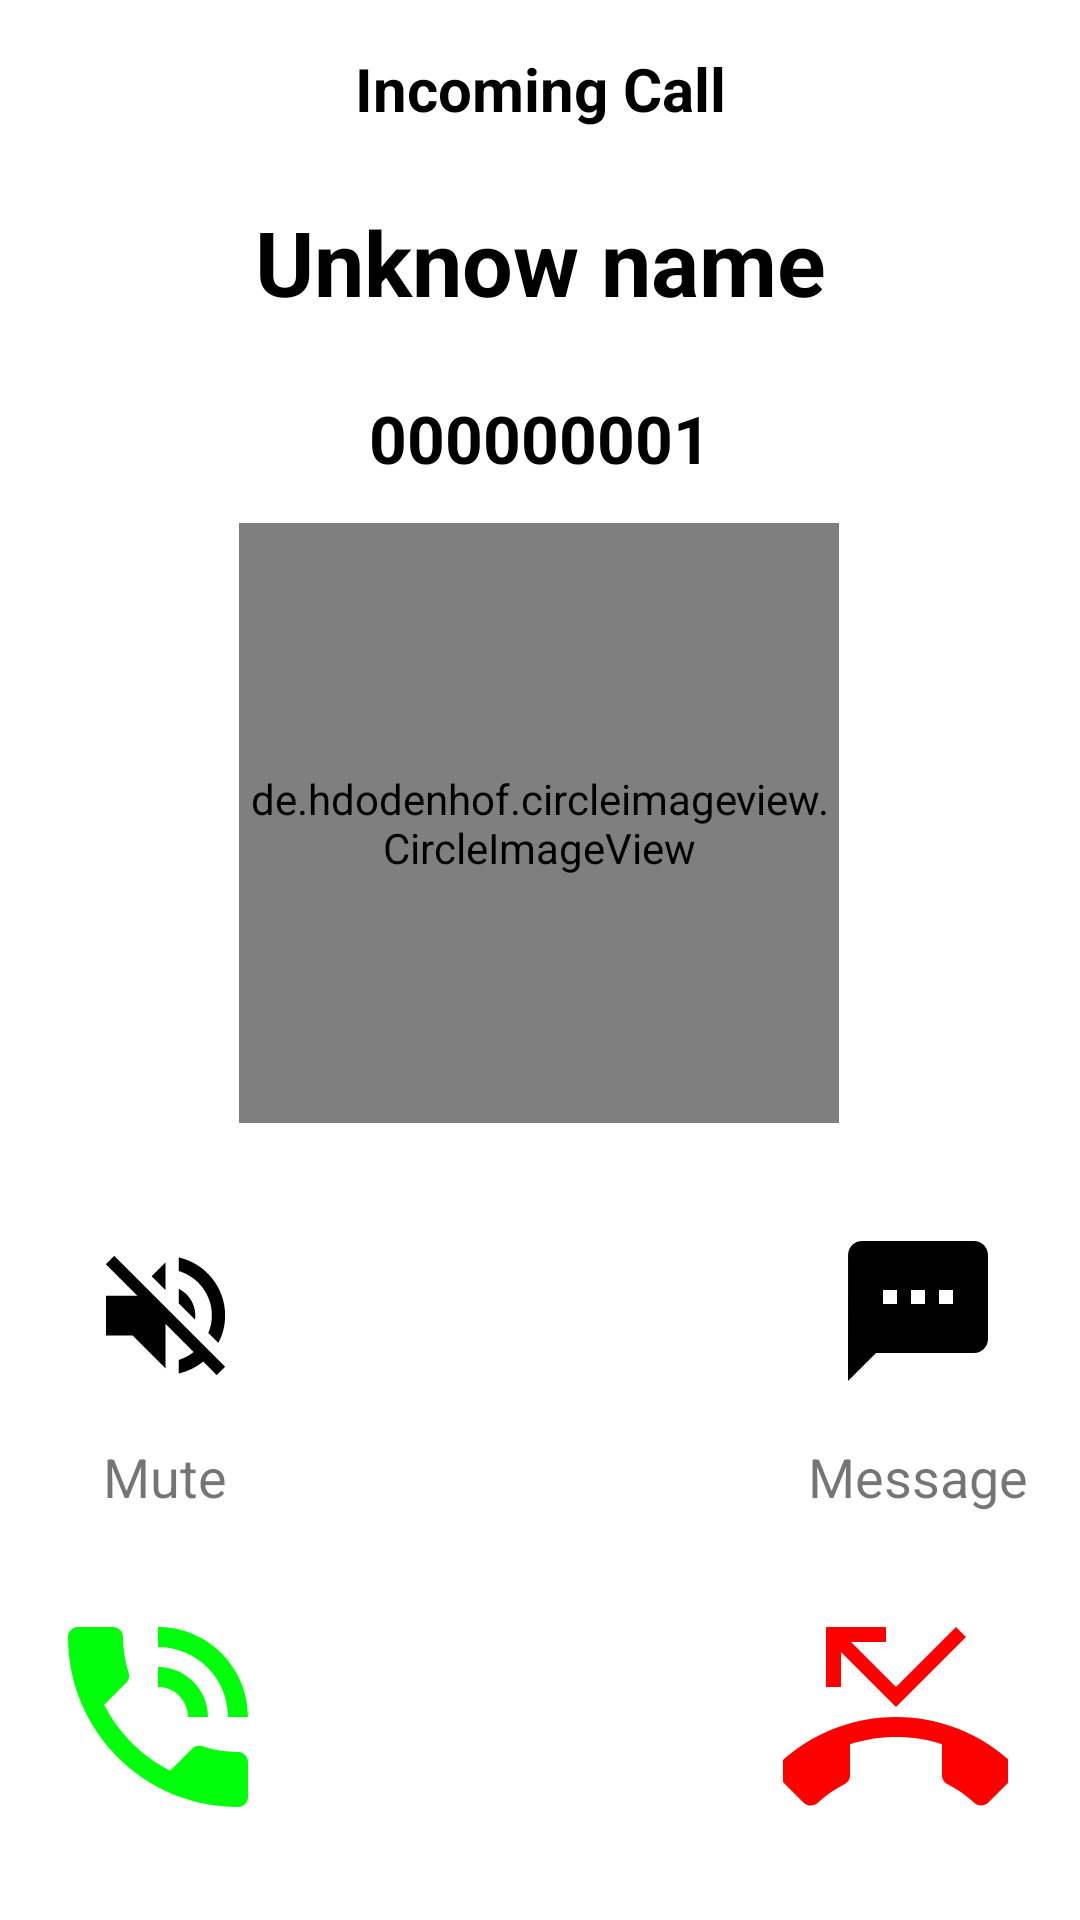

Named icons in this screenshot (1080w x 1920h) and their centers, [x,y]:
phone in talk: [158,1717]
phone missed: [895,1716]
textsms: [918,1311]
volume off: [165,1315]
